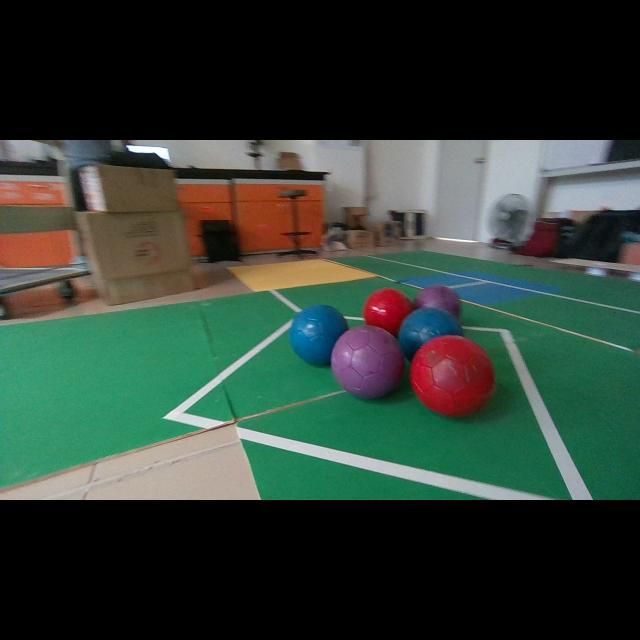B: (290, 305, 348, 364), (398, 308, 462, 361)
P: (331, 325, 404, 398), (415, 285, 461, 318)
R: (410, 335, 495, 418), (362, 288, 414, 336)
